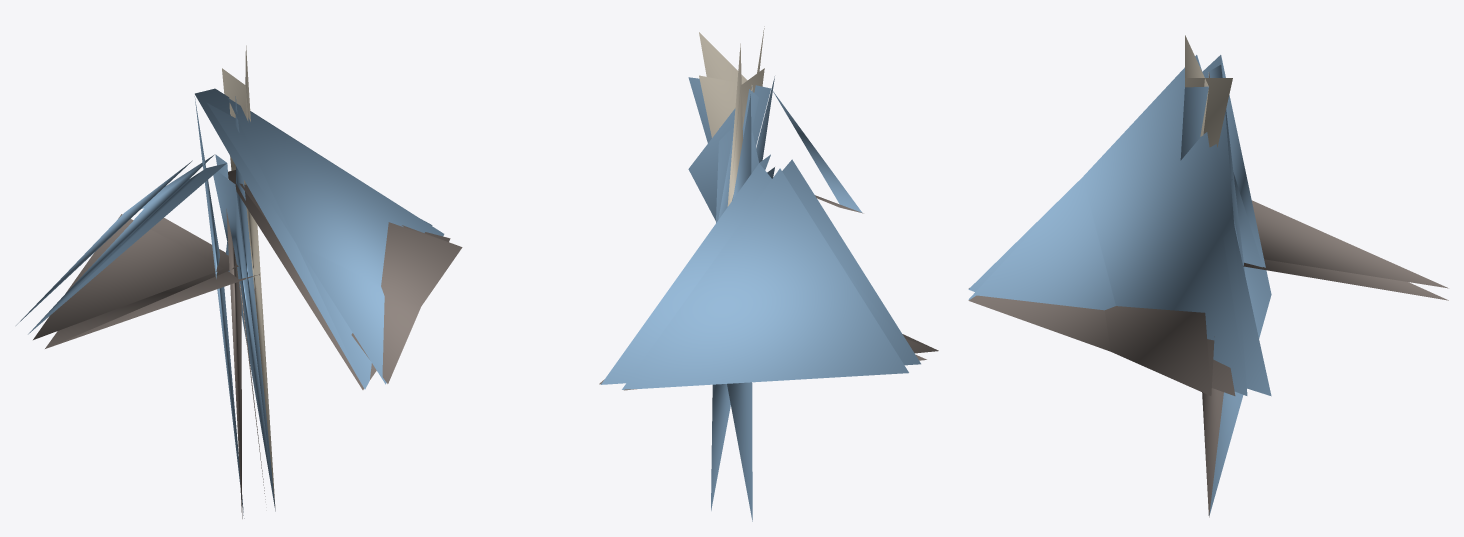
Rendered from npc_guide_idle.glb.
3 renders of one model, left to right at view 1: azimuth 30°, elevation 25°; view 2: azimuth 150°, elevation 25°; view 3: azimuth 270°, elevation 25°, orthographic.
Parts seen in each view (by area): view 1: npc_guide_idle; view 2: npc_guide_idle; view 3: npc_guide_idle.
Boxes of the visible parts, left/top/right/bottom form: npc_guide_idle: left=16, top=45, right=462, bottom=518; npc_guide_idle: left=599, top=26, right=938, bottom=521; npc_guide_idle: left=968, top=35, right=1448, bottom=517.
Size of the model in its own units: 2 by 2.24 by 2.
